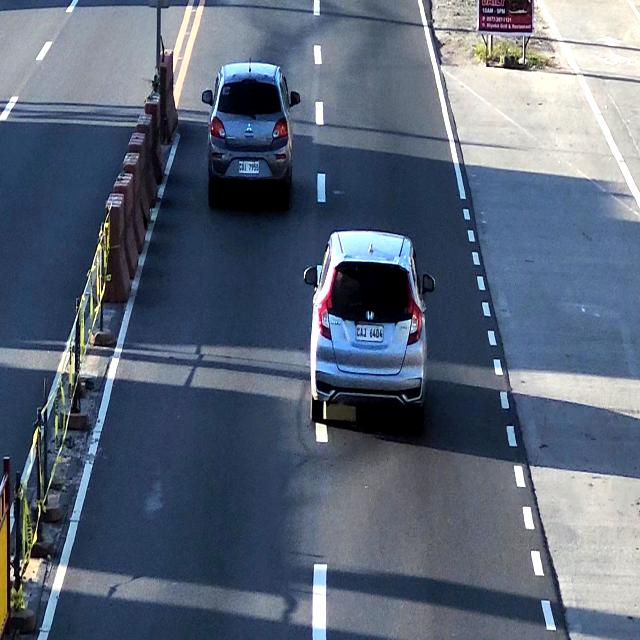Car: (311, 238, 428, 426), (207, 61, 292, 197)
License-Plate: (237, 157, 262, 177), (357, 327, 383, 343)
